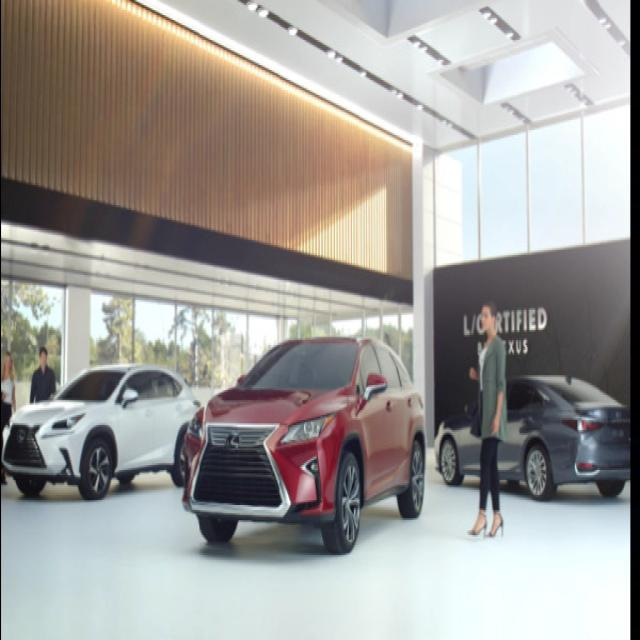cars: (180, 334, 425, 558), (434, 369, 633, 509), (4, 362, 202, 502)
message: (460, 305, 550, 360)
persons: (470, 297, 510, 547), (29, 346, 58, 403), (3, 349, 13, 420)
